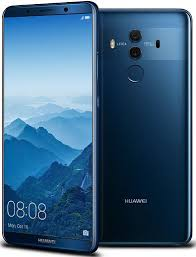oppo: (93, 3, 196, 251), (1, 2, 99, 253)
